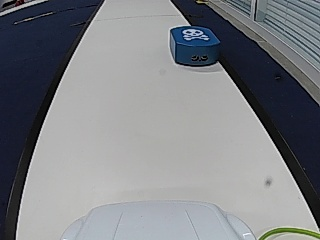danger: (182, 27, 208, 41)
